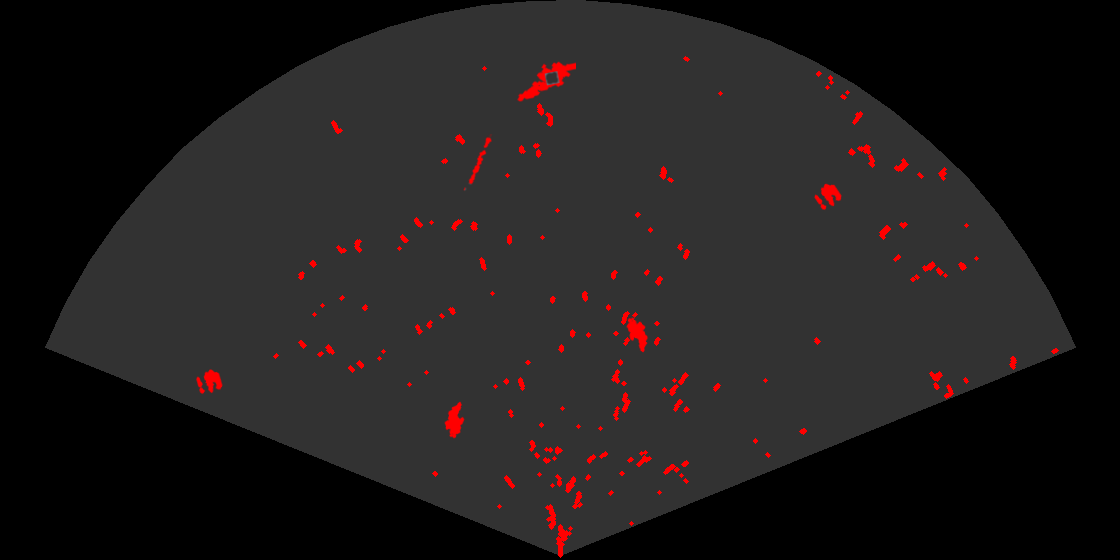AUV: (625, 316, 650, 354), (443, 400, 466, 440)
ball: (813, 182, 843, 212), (195, 368, 224, 396)
chain: (462, 134, 494, 192)
frogman: (515, 60, 576, 103)
